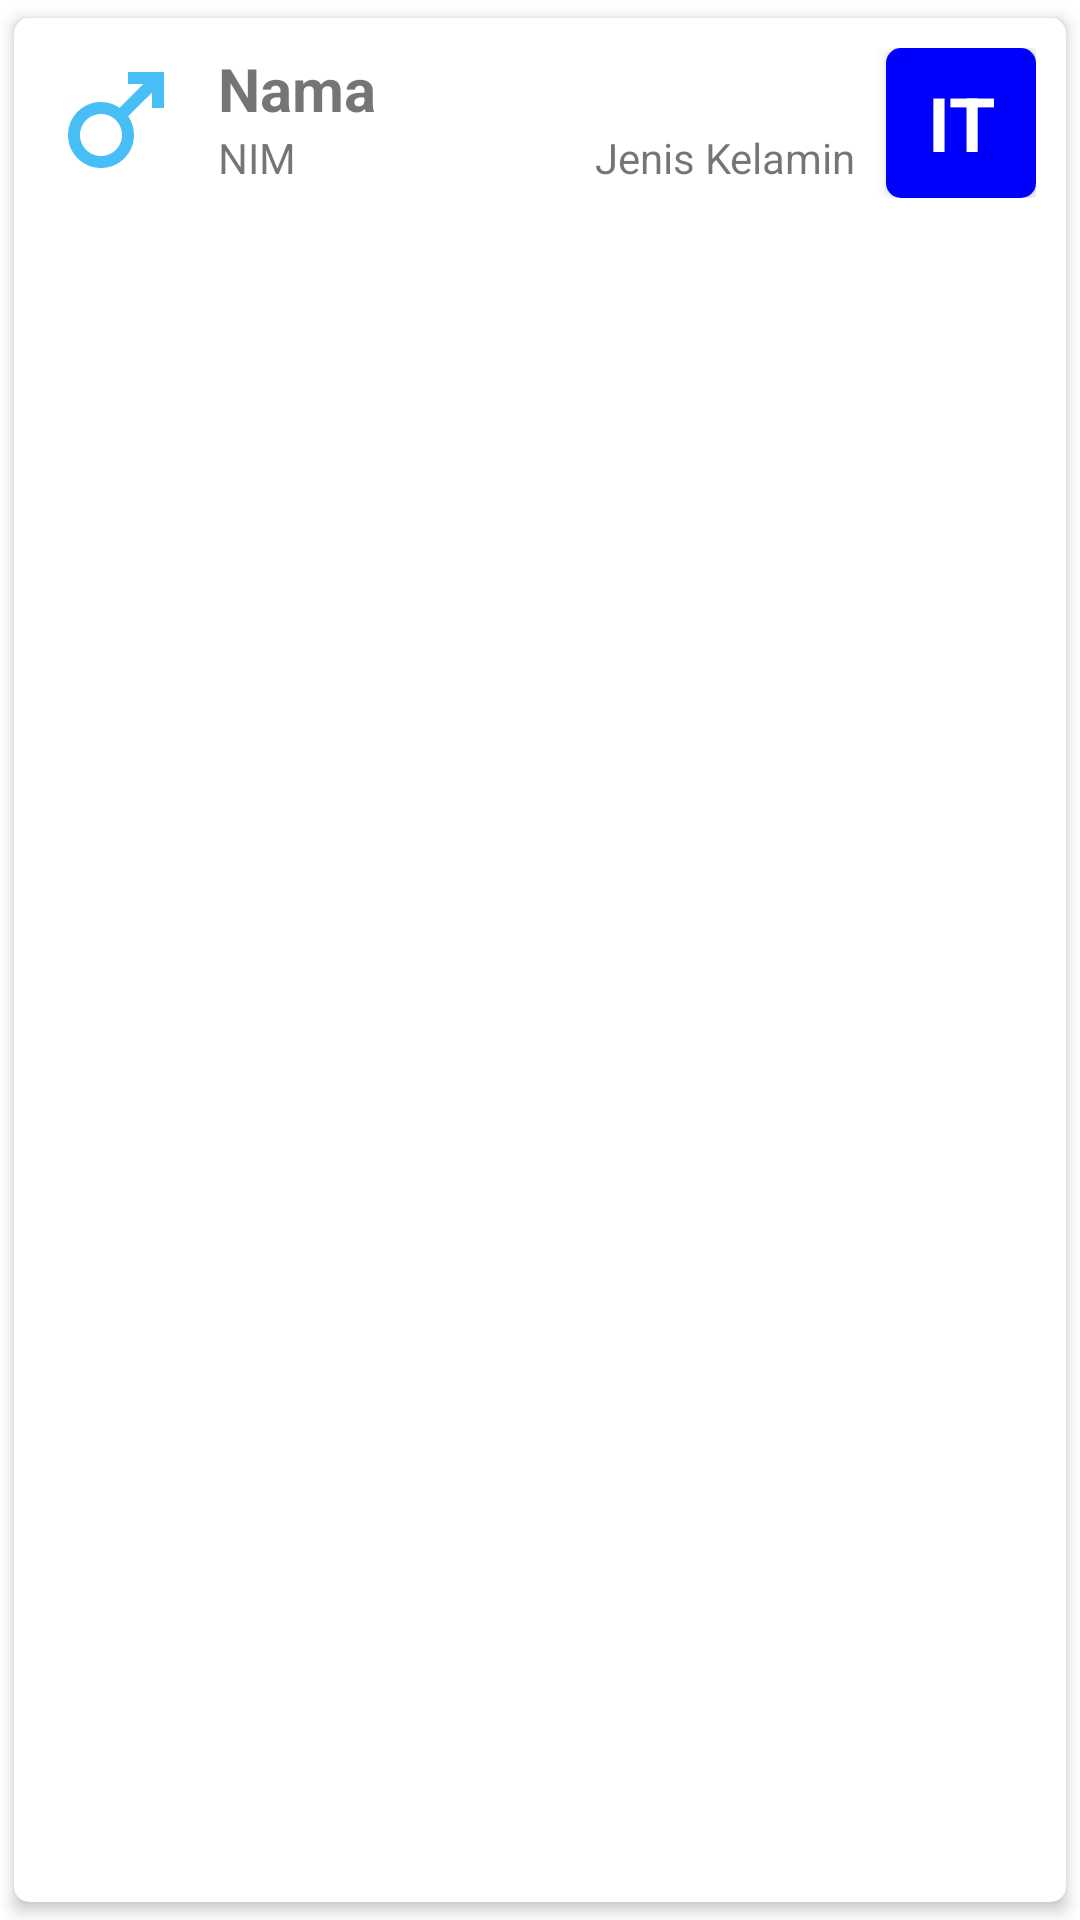

Named icons in this screenshot (1080*1920) and their bounding boxes, (x1, y1, x2, y2):
boy: (68, 72, 164, 168)
